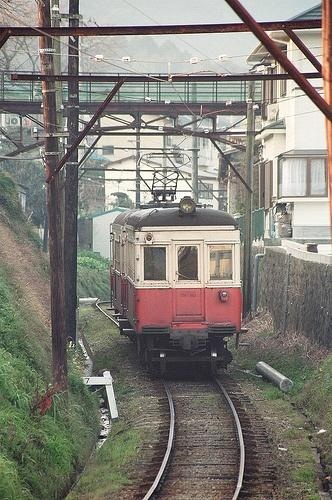train: (108, 154, 243, 382)
